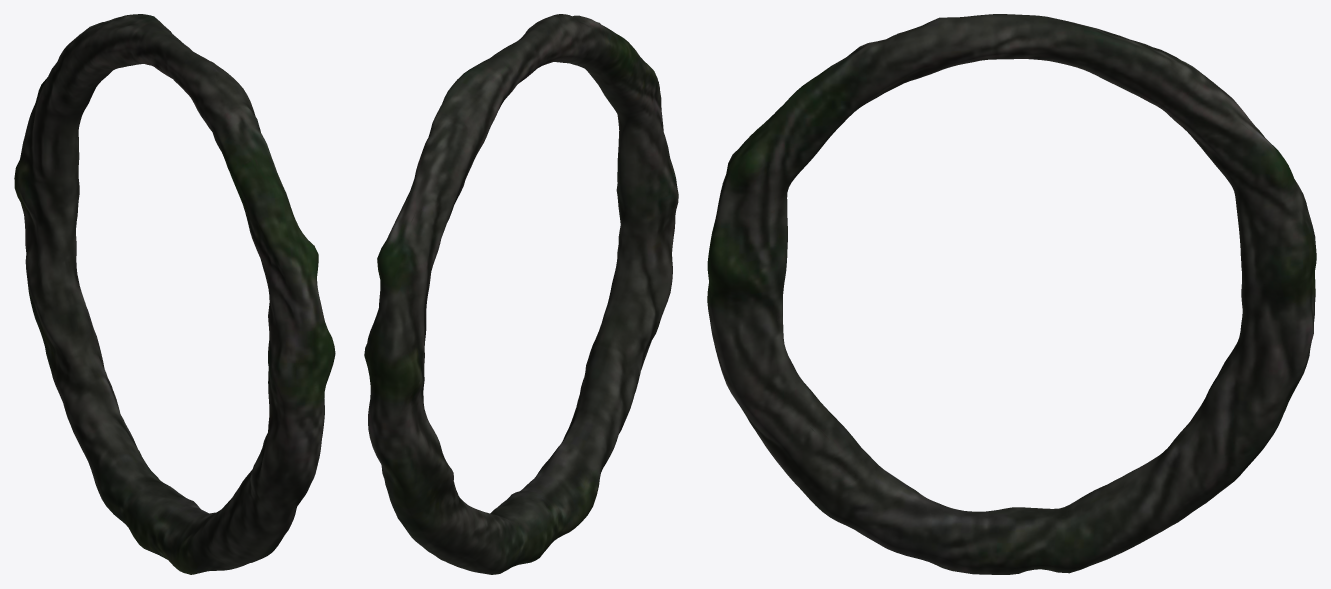
File: 00ce90521d06_Stories_about__witc.fbx
The picture shows the model from 3 angles, left to right: view 1: azimuth 30°, elevation 25°; view 2: azimuth 150°, elevation 25°; view 3: azimuth 270°, elevation 25°; orthographic projection. The views are drawn at different scales.
Visible parts, largest first — view 1: mesh; view 2: mesh; view 3: mesh.
Part boxes in pixels (x1=…): mesh: x1=14, y1=14, x2=335, y2=574; mesh: x1=364, y1=14, x2=678, y2=574; mesh: x1=707, y1=14, x2=1316, y2=574.
Size of the model in its own units: 12.04 by 99.97 by 99.48.
